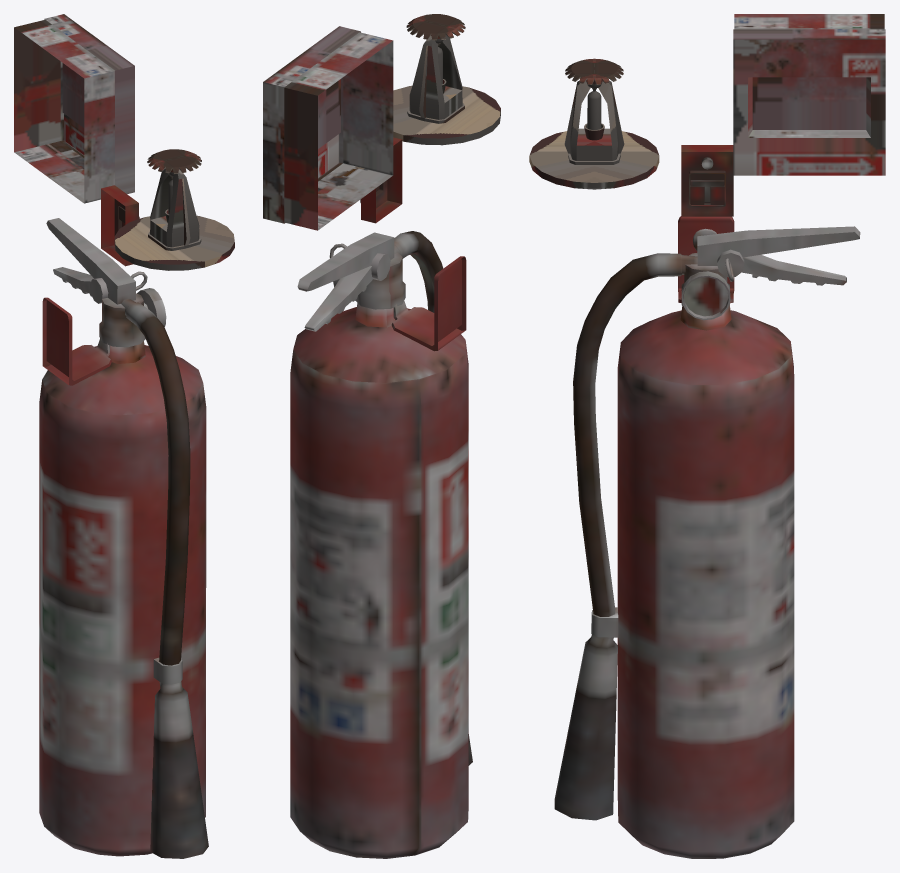
File: Fire_Extinguisher.fbx
3 views of the same model, side by side, from view 1: azimuth 30°, elevation 25°; view 2: azimuth 150°, elevation 25°; view 3: azimuth 270°, elevation 25° (orthographic). The views are drawn at different scales.
Parts seen in each view (by area): view 1: Fire_Extinguisher.mo, FIRE_alarm_sprinkler, Fire_safety_Switch; view 2: Fire_Extinguisher.mo, FIRE_alarm_sprinkler, Fire_safety_Switch; view 3: Fire_Extinguisher.mo, FIRE_alarm_sprinkler, Fire_safety_Switch.
Part boxes in pixels (left/top/right/bottom): Fire_Extinguisher.mo: left=39, top=218, right=208, bottom=858; FIRE_alarm_sprinkler: left=14, top=14, right=234, bottom=270; Fire_safety_Switch: left=101, top=185, right=139, bottom=266; Fire_Extinguisher.mo: left=290, top=231, right=472, bottom=858; FIRE_alarm_sprinkler: left=263, top=14, right=500, bottom=230; Fire_safety_Switch: left=360, top=137, right=402, bottom=223; Fire_Extinguisher.mo: left=554, top=216, right=860, bottom=858; FIRE_alarm_sprinkler: left=529, top=14, right=885, bottom=189; Fire_safety_Switch: left=681, top=145, right=733, bottom=216.
Size of the model in its own units: 0.3703 by 1.85 by 0.7464.
